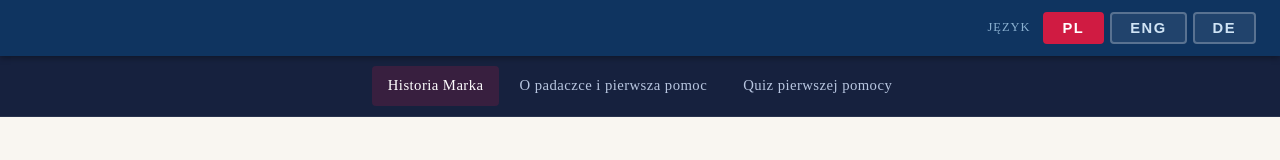
Test: language switching › switches all content to English and persists the choice
Click the button "ENG" at (1148, 28), box x1=1110 y1=12 x2=1187 y2=44
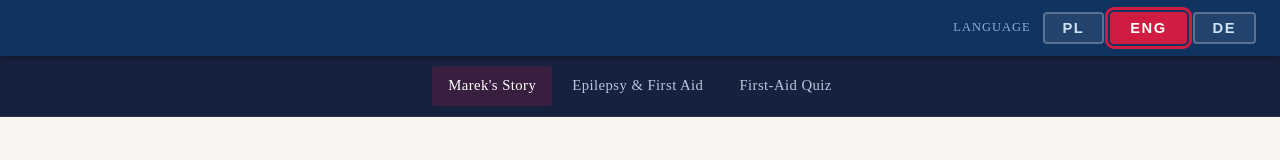
expect the link "Marek's Story" is shown: met, box x1=432 y1=66 x2=552 y2=106
expect the link "Historia Marka" is gone: met
